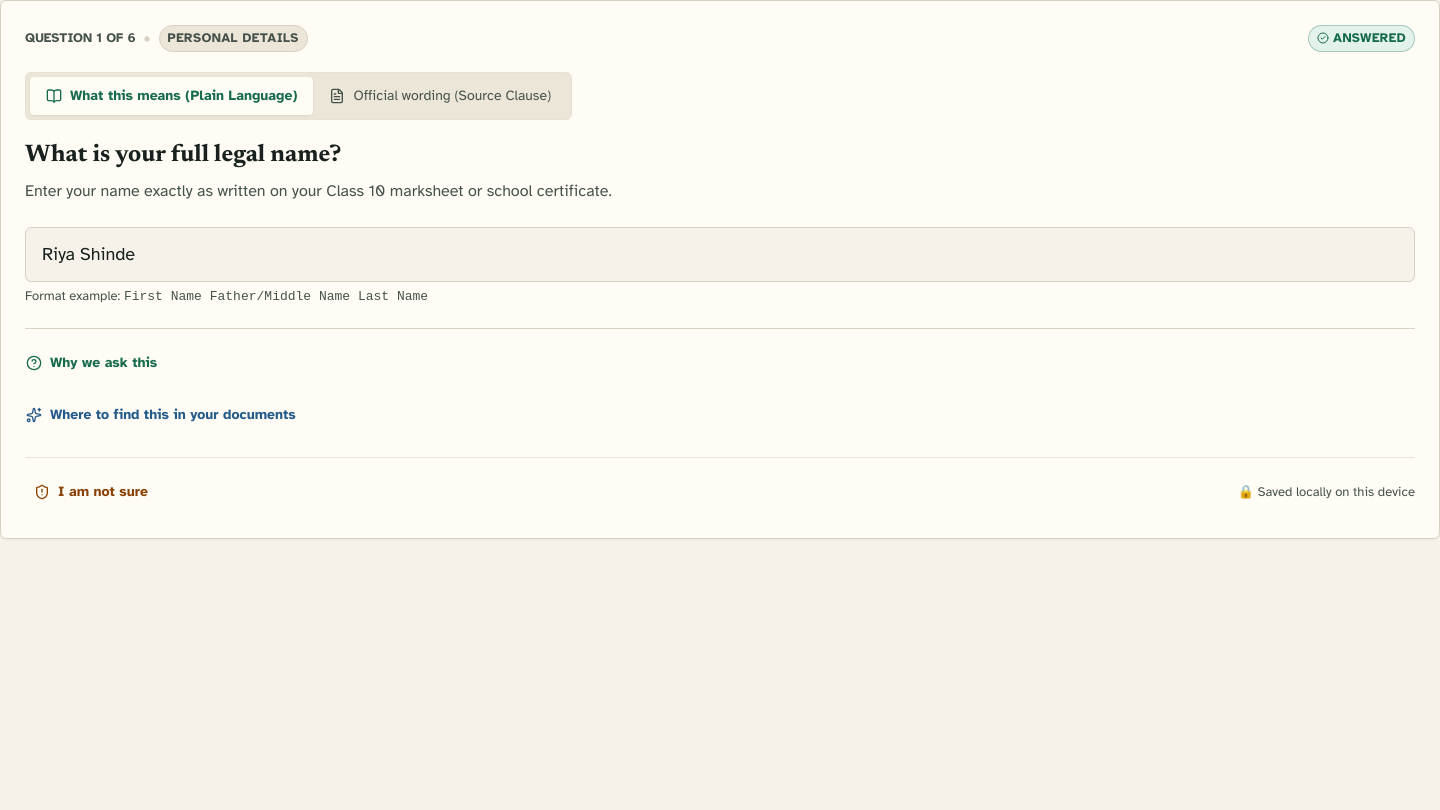
Test case: PlainOfficialCard Signature Component › reveals "Why we ask this" and evidence hint disclosures on click
Click the button "Why we ask this": (92, 363) [25,341,158,385]
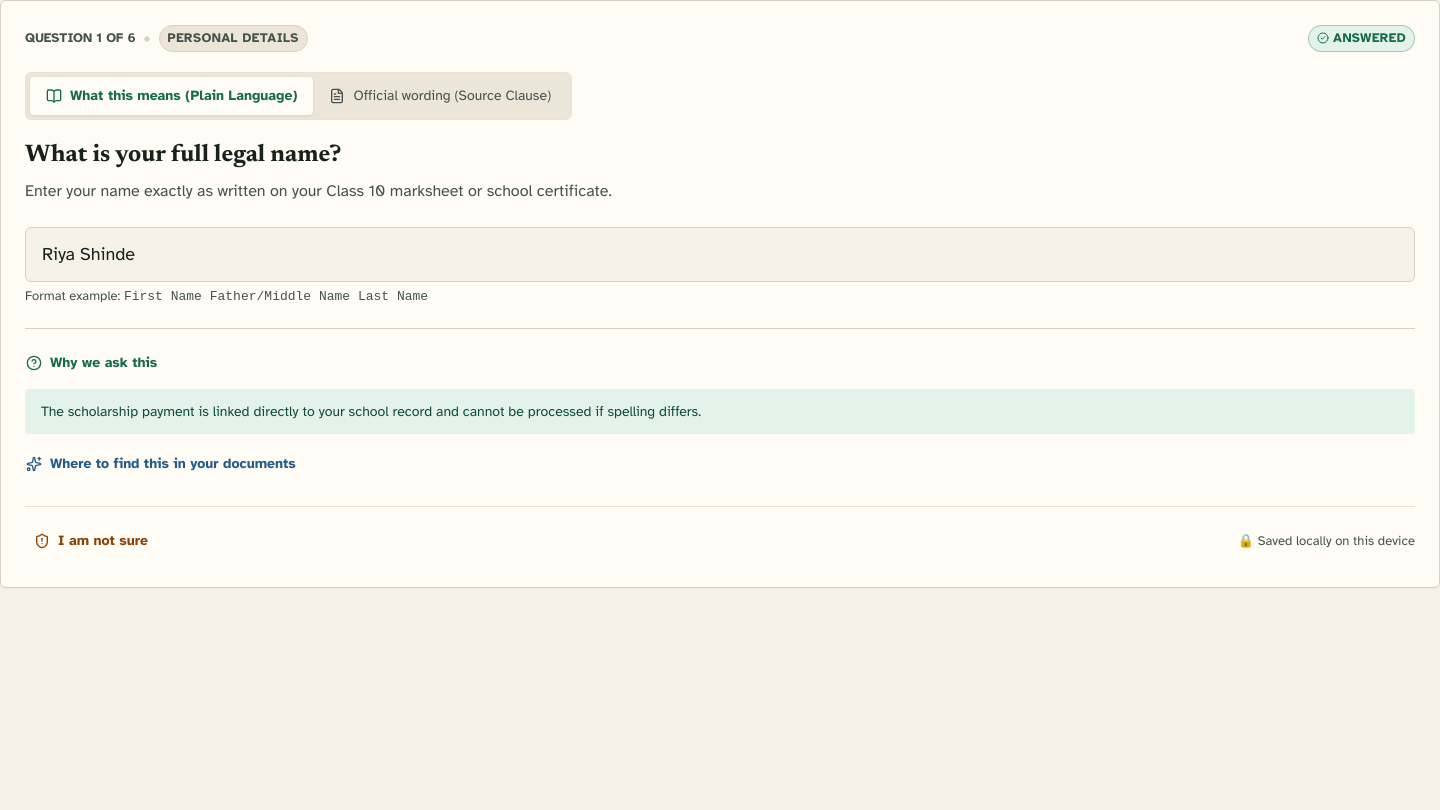
Expected: the text "scholarship payment is linked directly to your school record" is shown, [41,403,701,420]
Click the button "Where to find this in your documents": (161, 464) [25,442,297,486]
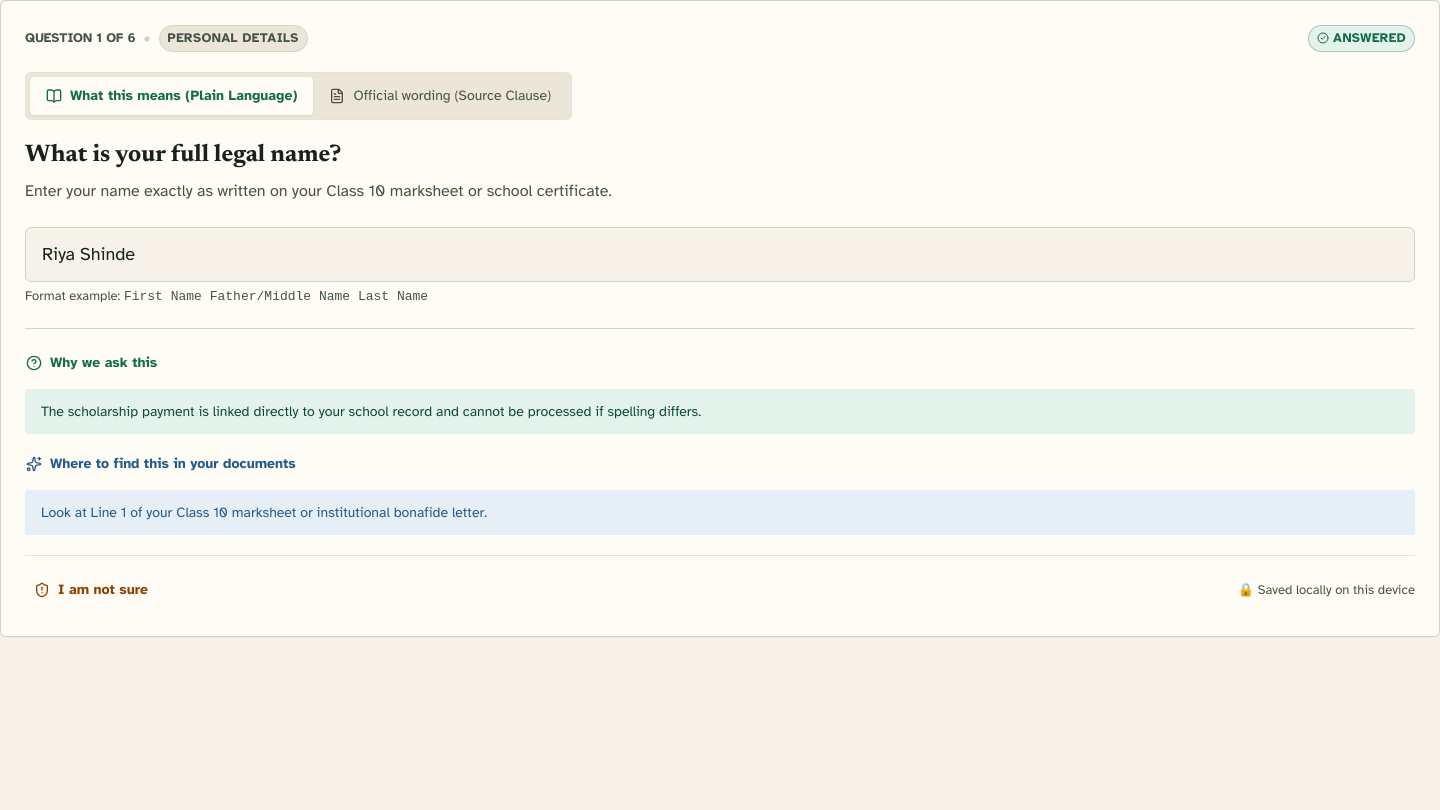
Expected: the text "Line 1 of your Class 10 marksheet" is shown, [41,504,487,521]
